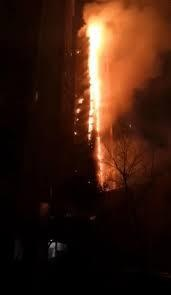fire: (78, 10, 108, 185)
